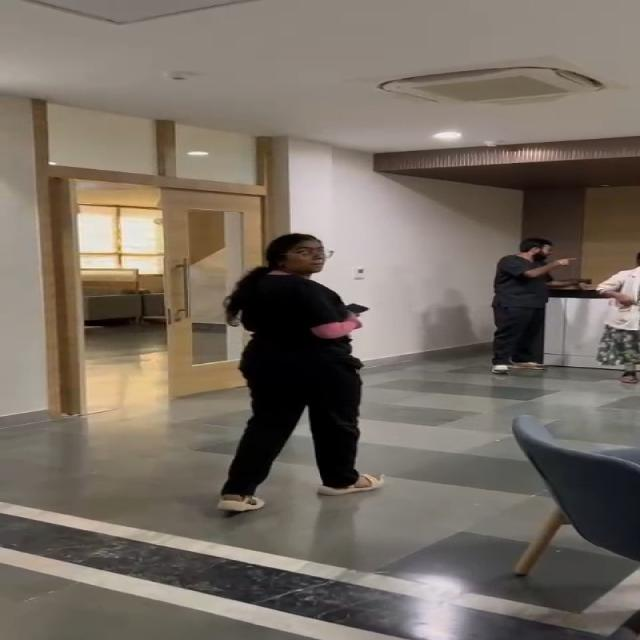door: (28, 126, 258, 416)
floor: (0, 439, 485, 640)
furniture: (512, 410, 640, 614)
moving_object: (219, 240, 364, 484), (464, 237, 640, 370)
